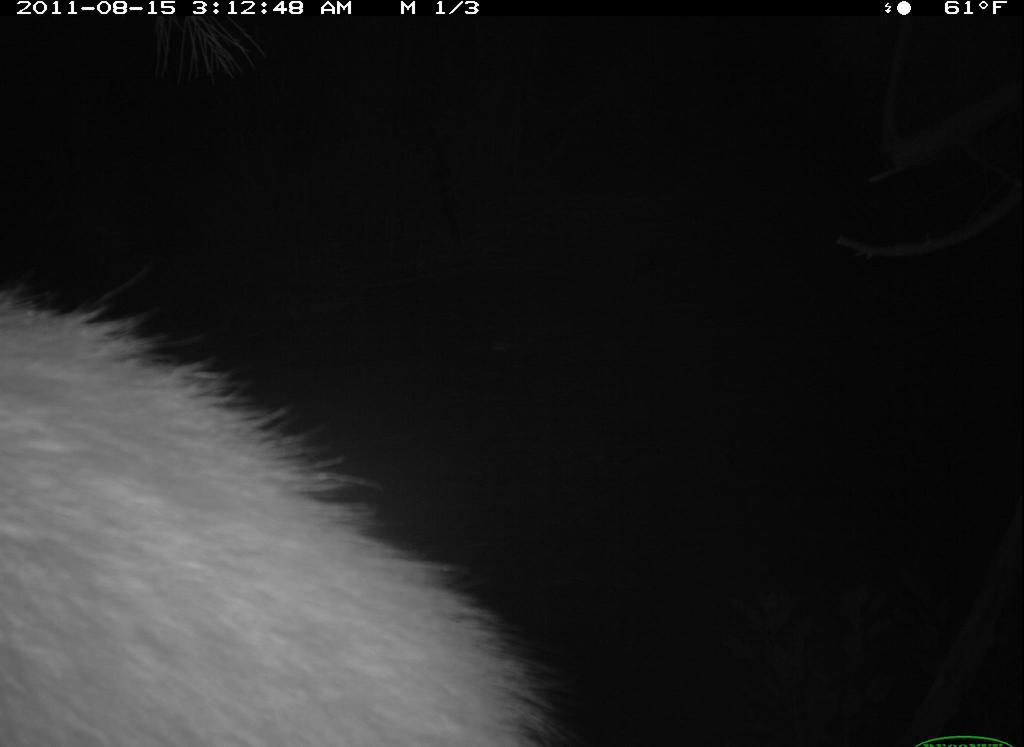raccoon: (2, 281, 572, 747)
